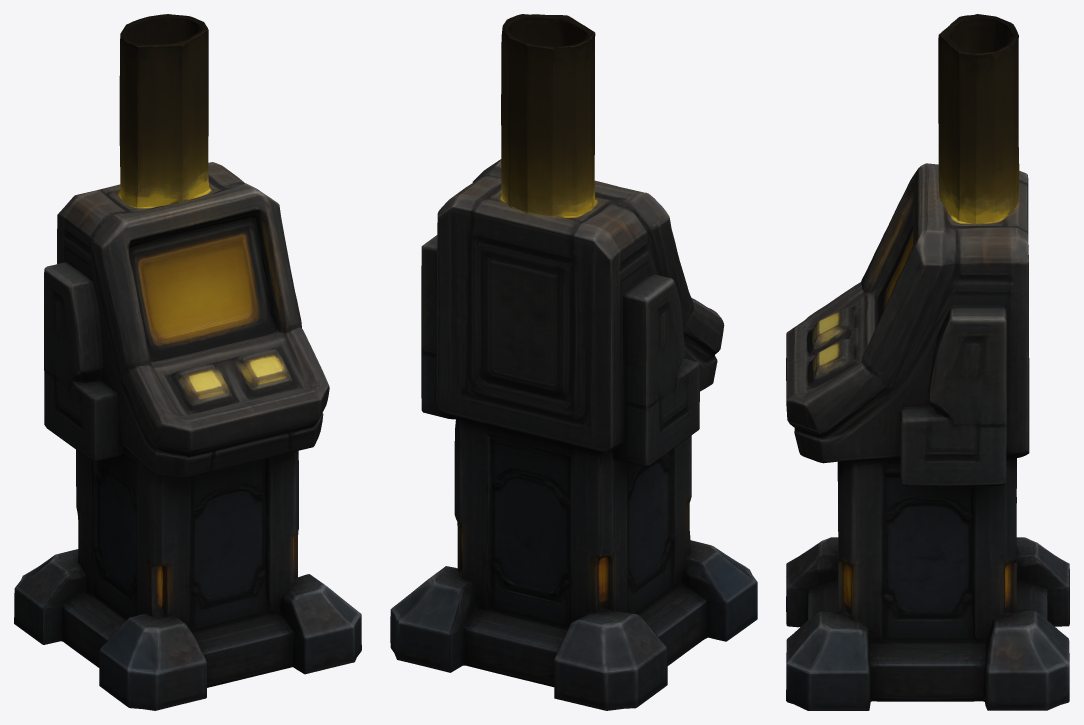
File: MissionTerminal.glb
3 views of the same model, side by side, from view 1: azimuth 30°, elevation 25°; view 2: azimuth 150°, elevation 25°; view 3: azimuth 270°, elevation 25° (orthographic). The views are drawn at different scales.
Parts seen in each view (by area): view 1: world; view 2: world; view 3: world.
Part boxes in pixels (x1,y1,x2,y2): world: (14, 14, 361, 710); world: (390, 14, 757, 710); world: (786, 14, 1069, 710).
Size of the model in its own units: 0.4173 by 1 by 0.4172.
1 material, 1 textured.
